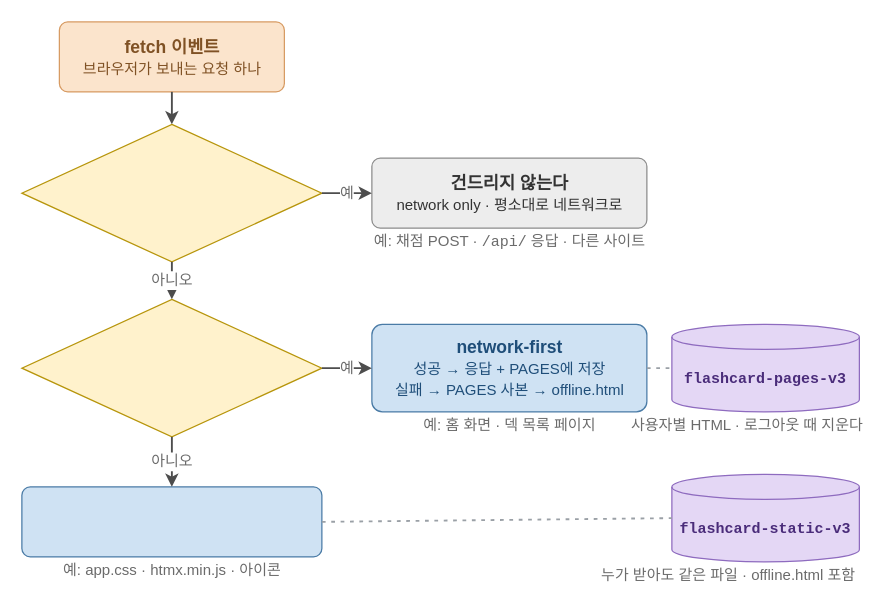
Some shapes in this 884 by 609 pixel diagram are drawn without their labels. The shapes that lost their labels are listed below. From the top down, each one's centre as x and y in pixels, then its label:
point 171,192: GET이 아니거나 /api/ 이거나 다른 오리진?
point 171,367: mode === "navigate" ? (페이지 HTML)
point 171,521: stale-while-revalidate STATIC 사본 즉시 → 뒤에서 갱신
